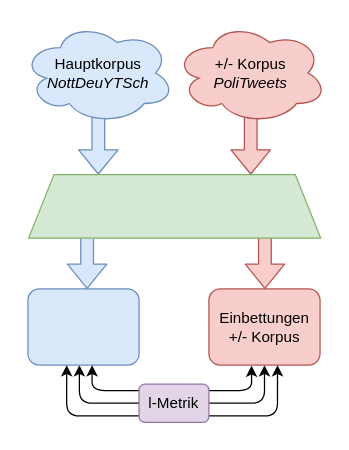
Some shapes in this 349 by 450 pixel diagram are drawn without their labels. The centre of each missing label's shape, as x and y in pixels:
"Einbettungen Hauptkorpus" goes at point (83, 326).
"Transformer RoBERTa" goes at point (174, 205).
